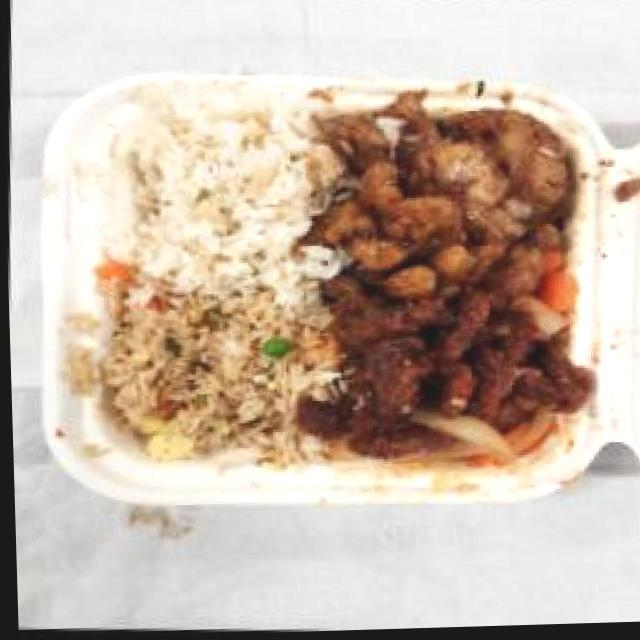Beijing Beef: (302, 280, 591, 481)
Fried Rice: (64, 286, 316, 475)
The Original Orange Chicken: (315, 88, 590, 303)
White Steamed Rice: (87, 90, 335, 291)
